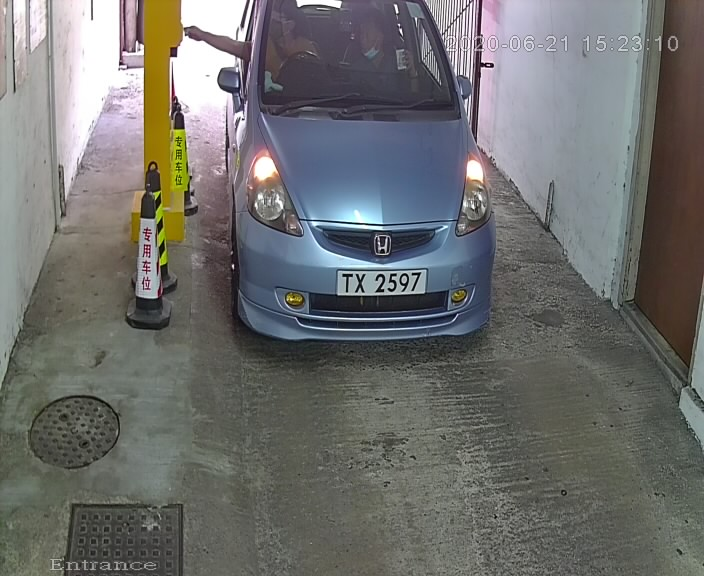privatecar: (206, 2, 503, 352)
